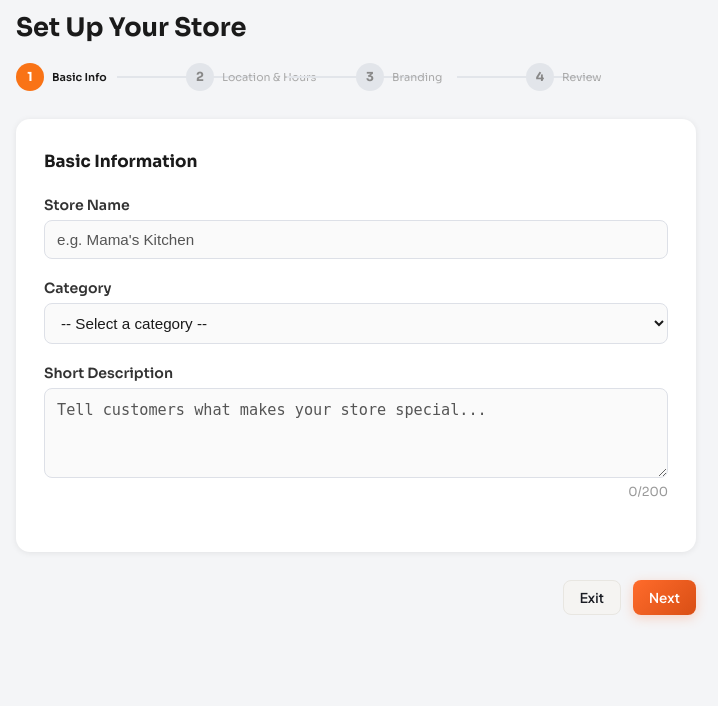
Test case: StoreSetup – step 0 validation › shows an error if store name is empty on Next
Click the button "Next". click: (664, 598)
box: 633,580 -> 696,615
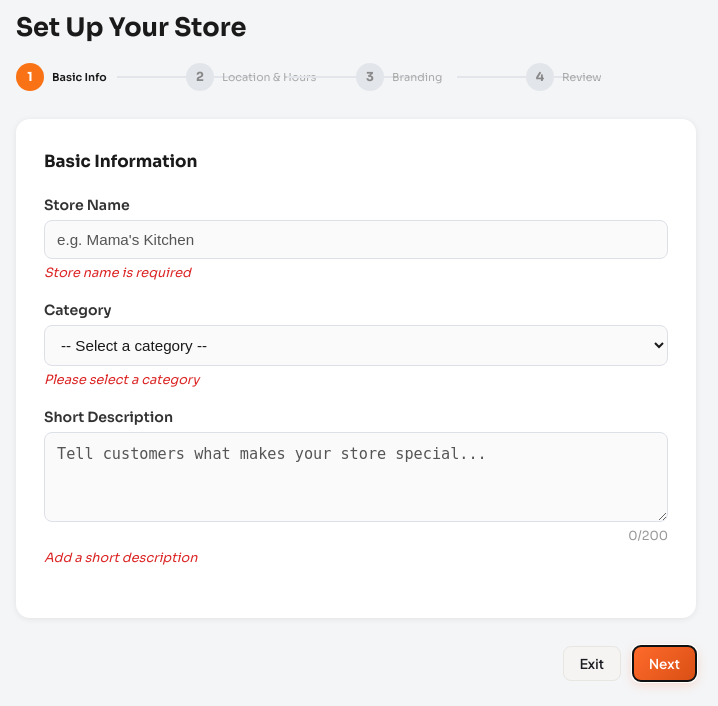
Expected: the text "Store name is required" is shown, 44,265 -> 191,281
